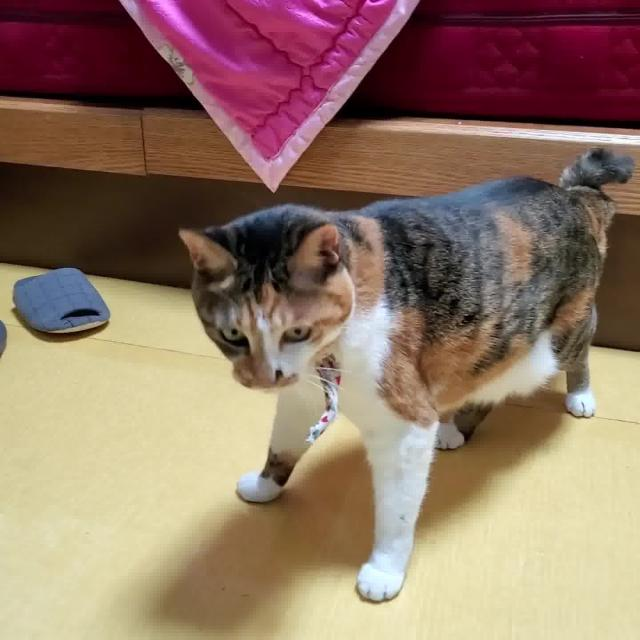cat: (169, 145, 637, 608)
